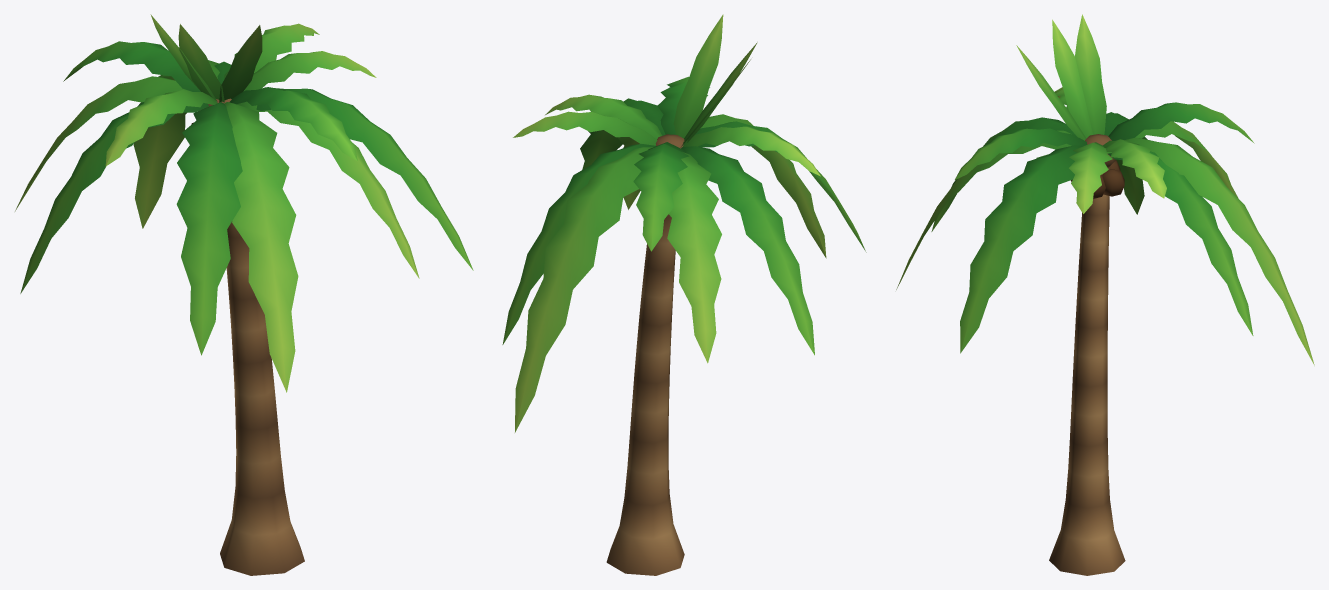
File: Palm_Small.obj
3 renders of one model, left to right at view 1: azimuth 30°, elevation 25°; view 2: azimuth 150°, elevation 25°; view 3: azimuth 270°, elevation 25°, orthographic. The views are drawn at different scales.
Visible parts, largest first — view 1: Palm_Small; view 2: Palm_Small; view 3: Palm_Small.
Boxes of the visible parts, x1,y1,x2,y2 form: Palm_Small: [15, 14, 473, 575]; Palm_Small: [502, 14, 866, 575]; Palm_Small: [896, 14, 1314, 575].
Size of the model in its own units: 1.23 by 1.92 by 1.47.
1 material, 1 textured.
